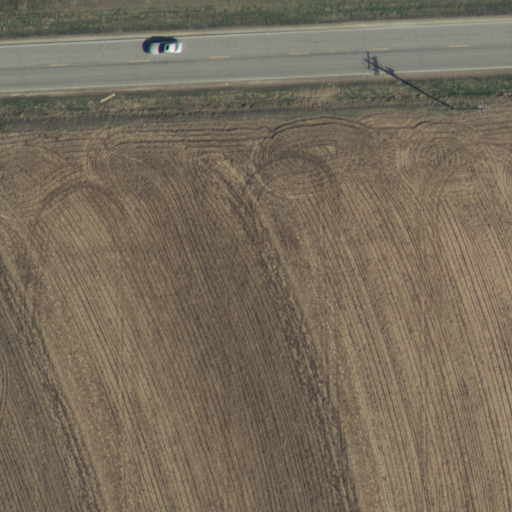DT: (439, 90, 483, 121)
